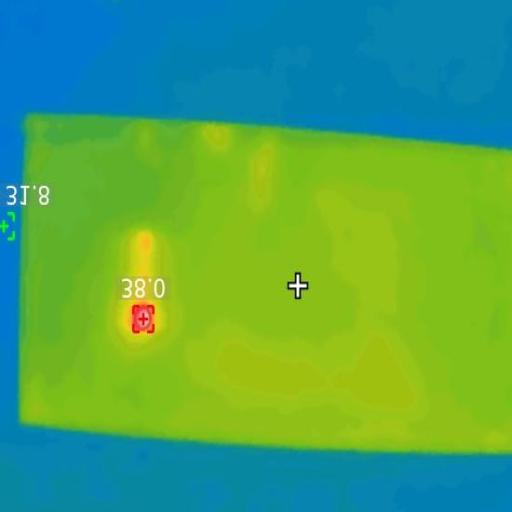hotspot: (133, 305, 157, 332)
